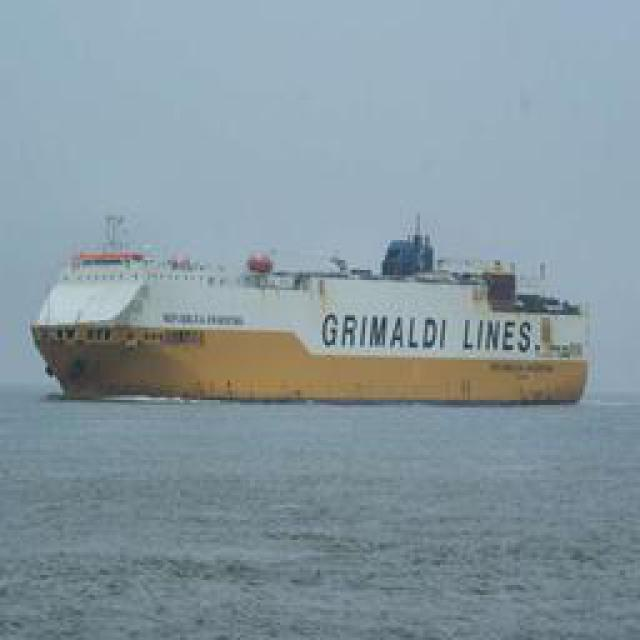Ship: (41, 211, 601, 414)
